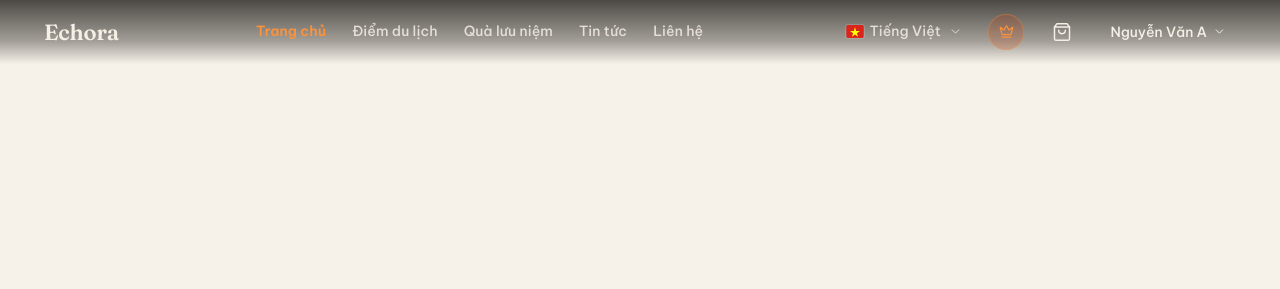
it: Header Navigation Redesign › Cụm bên phải: Trạng thái giỏ hàng và auth › đã đăng nhập: thay Đăng nhập/Đăng ký bằng tên người dùng kèm menu tài khoản và Đăng xuất
// Dropdown menu tài khoản (mở bằng cách bấm trigger)
Click the button with aria-label "Mở trang tài khoản" at (1168,32), box [1100, 16, 1236, 46]
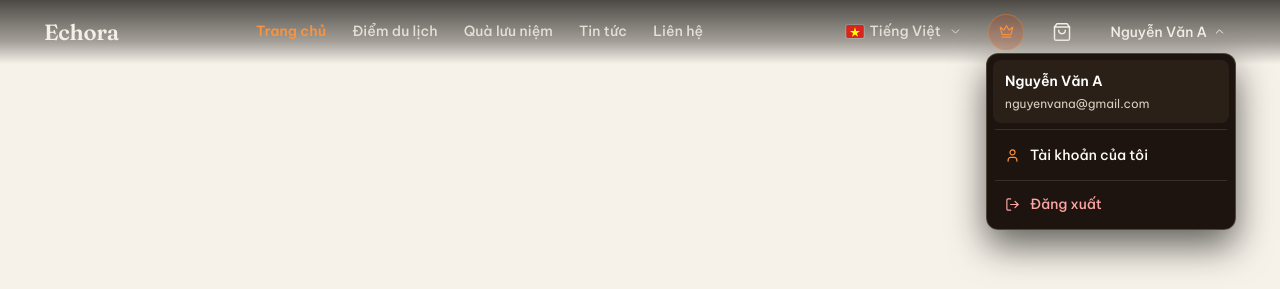
Now the menu named "Tùy chọn người dùng" is shown, box [986, 52, 1236, 230]
Now the menu item "Đăng xuất" is shown, box [993, 186, 1229, 224]
